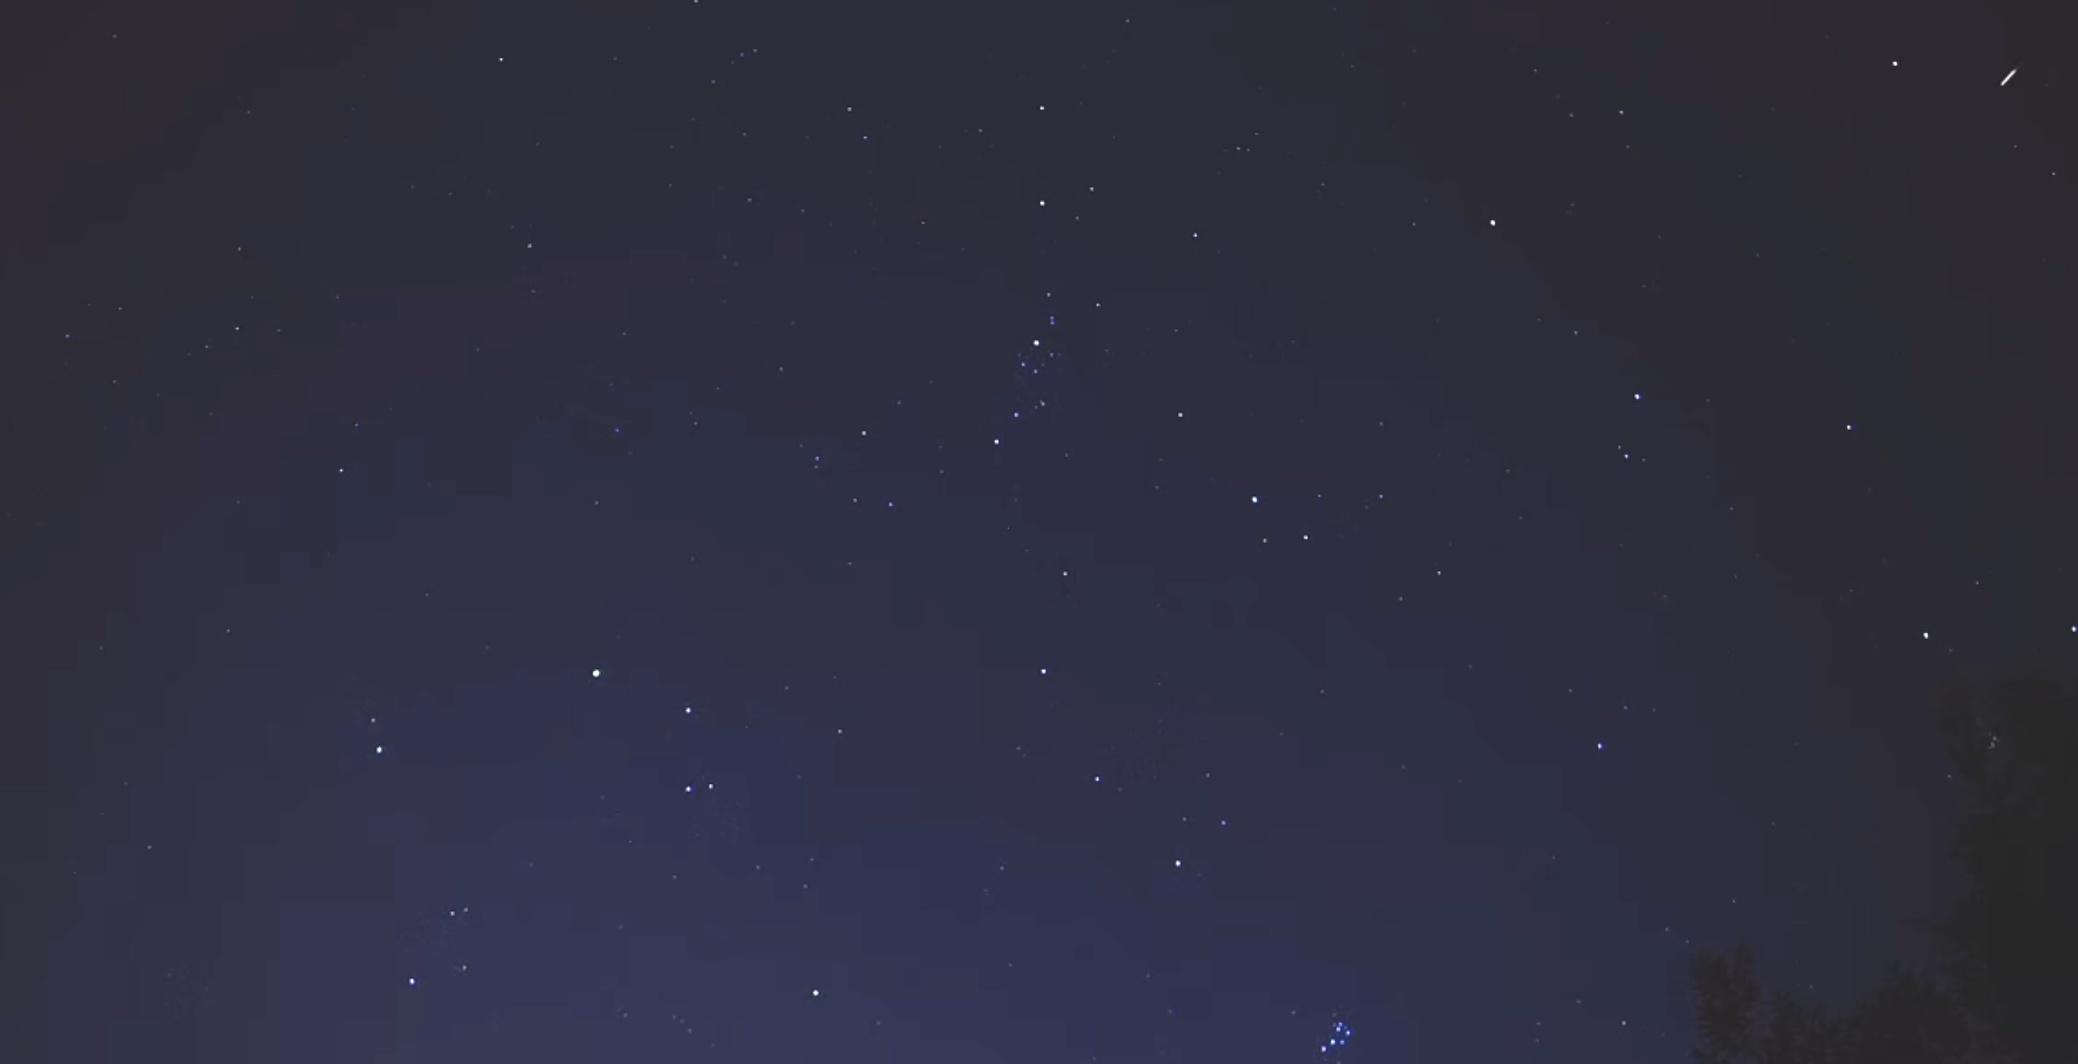meteorite: (1950, 57, 2064, 94)
